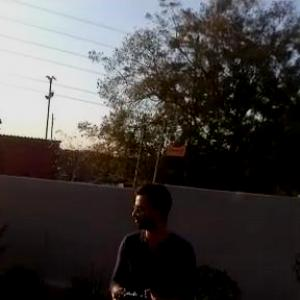follow: (103, 170, 201, 299)
